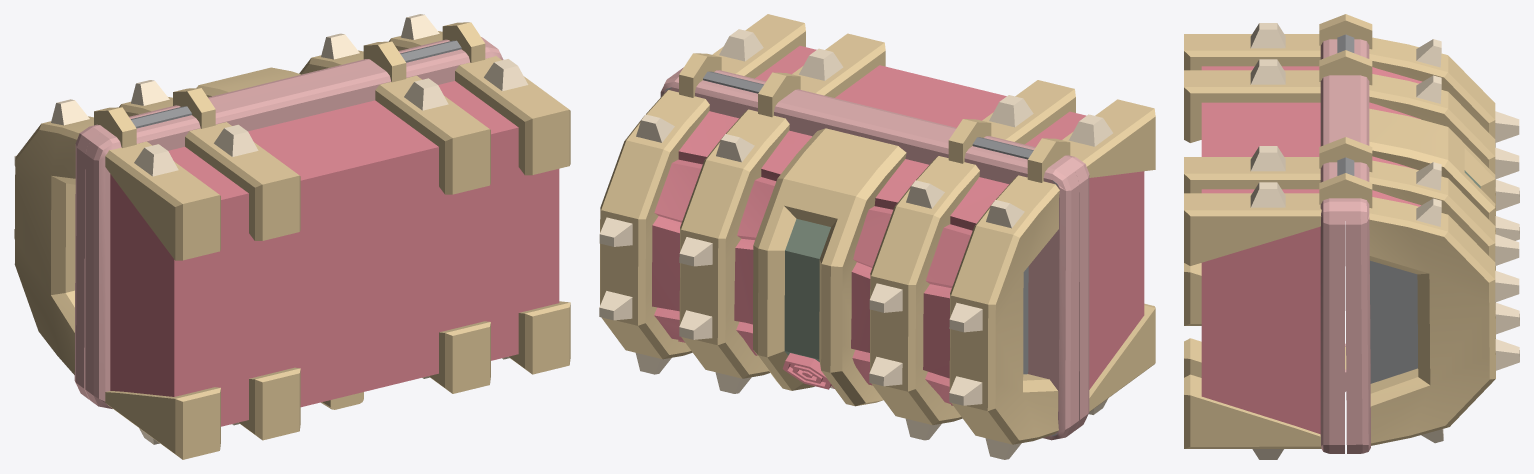
File: NewEpicChest.fbx
The picture shows the model from 3 angles, left to right: view 1: azimuth 30°, elevation 25°; view 2: azimuth 150°, elevation 25°; view 3: azimuth 270°, elevation 25°; orthographic projection. The views are drawn at different scales.
Visible parts, largest first — view 1: Treasure_Chest_2a, Opened_12; view 2: Opened_12, Treasure_Chest_2a; view 3: Treasure_Chest_2a, Opened_12.
Boxes of the visible parts, bbox=[...] form: Treasure_Chest_2a: bbox=[85, 22, 570, 459]; Opened_12: bbox=[14, 14, 489, 399]; Opened_12: bbox=[599, 72, 1079, 459]; Treasure_Chest_2a: bbox=[675, 14, 1155, 430]; Treasure_Chest_2a: bbox=[1184, 14, 1372, 459]; Opened_12: bbox=[1345, 37, 1519, 453].
Size of the model in its own units: 91.7 by 64.61 by 69.7.
